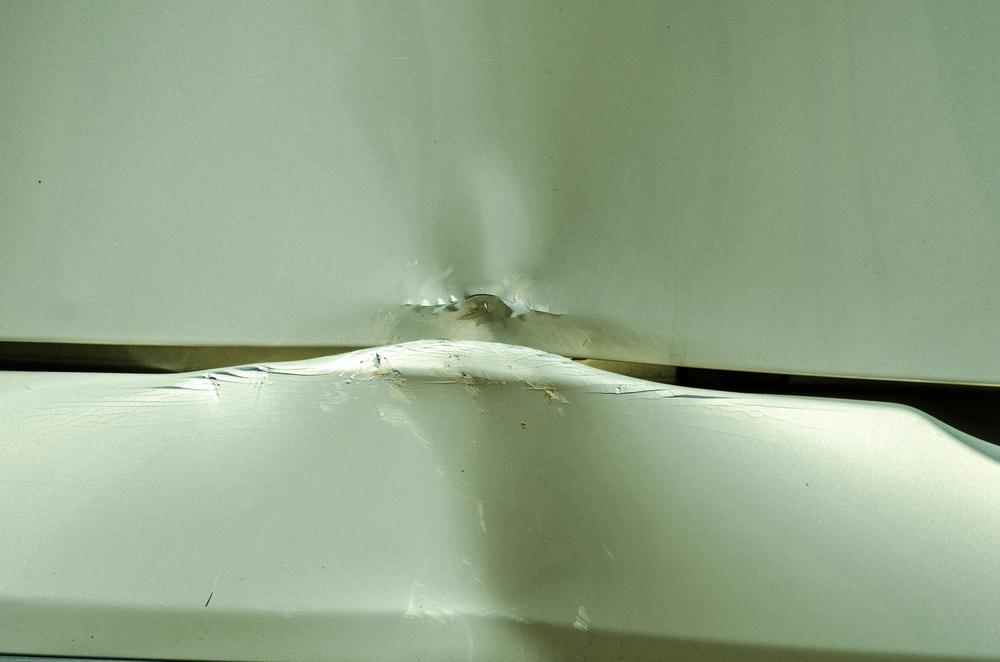dent: (357, 339, 640, 661), (378, 161, 629, 358)
